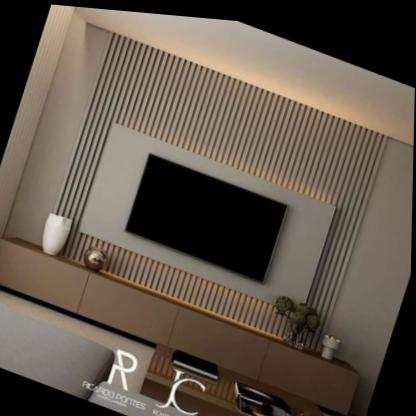Wall Panel: (3, 13, 416, 370)
